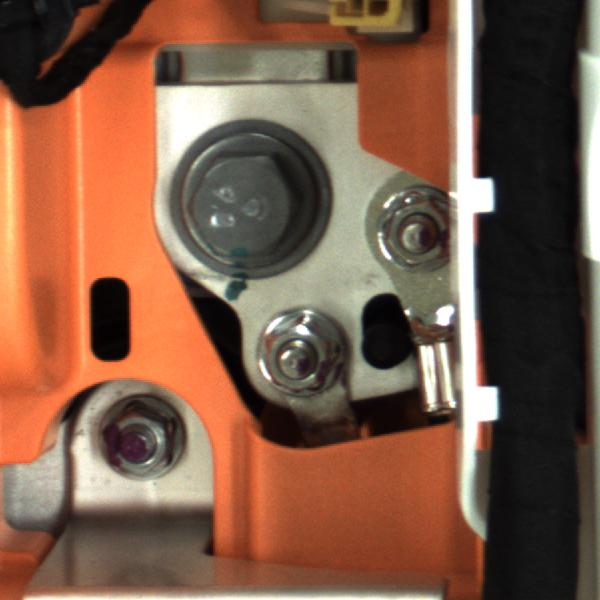nut_b: (156, 129, 344, 270)
screw_s: (99, 383, 196, 487), (255, 304, 350, 398), (366, 183, 453, 272)
